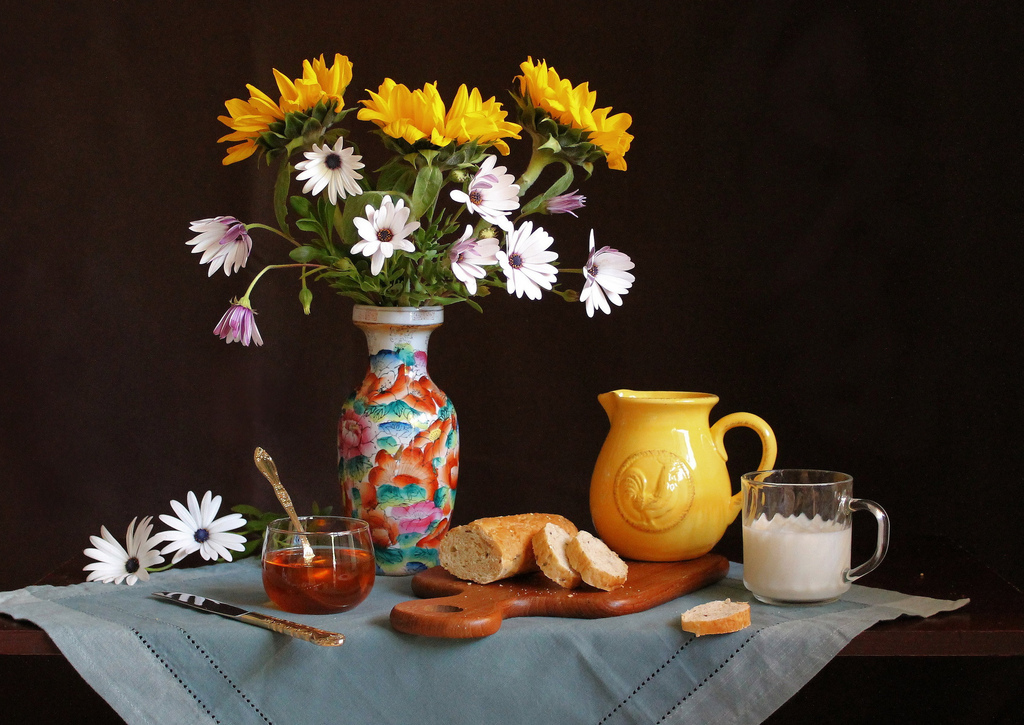glass of milk: (740, 471, 854, 601)
slice of bread: (440, 523, 520, 586), (520, 521, 574, 595), (570, 532, 627, 588)
